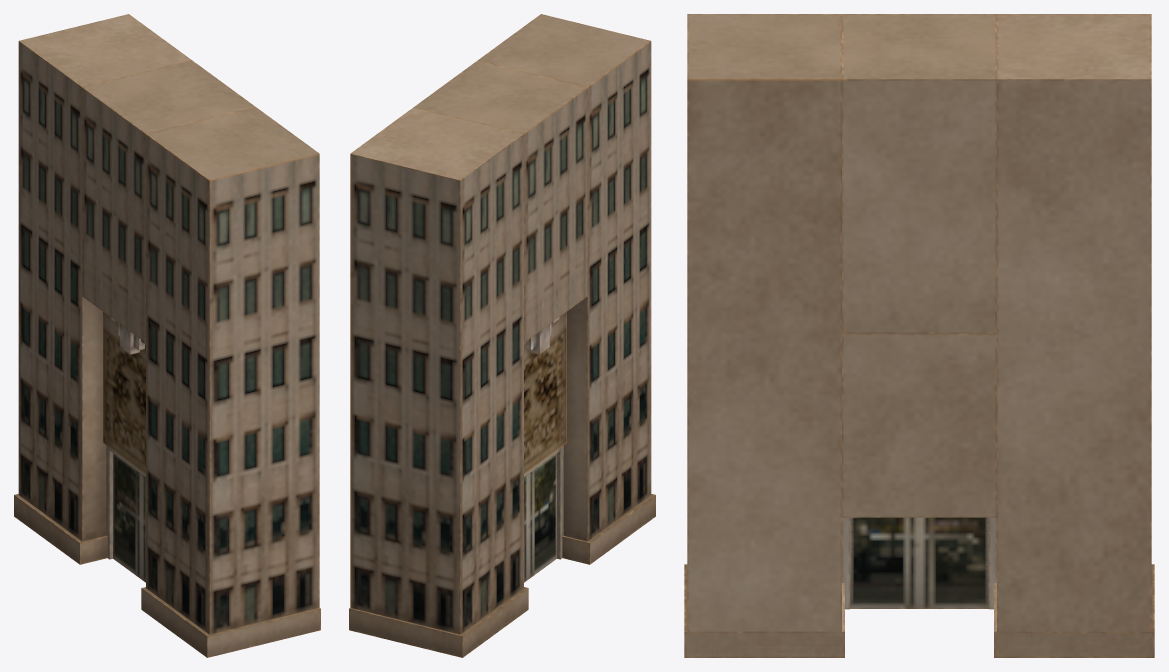
The model's file is Majakene.fbx.
The picture shows the model from 3 angles, left to right: view 1: azimuth 30°, elevation 25°; view 2: azimuth 150°, elevation 25°; view 3: azimuth 270°, elevation 25°; orthographic projection. The views are drawn at different scales.
Parts seen in each view (by area): view 1: cube_13, cube_1, cube_2, cube, cube_5, cube_3, cube_4, cube_6; view 2: cube_1, cube_13, cube_2, cube, cube_4, cube_3, cube_5, cube_7; view 3: cube_1, cube_13, cube_2, cube, cube_3, cube_5, cube_4.
Boxes of the visible parts, <box> form: cube_13: <box>146,107,319,634</box>; cube_1: <box>18,14,191,541</box>; cube_2: <box>82,60,255,342</box>; cube: <box>103,312,145,473</box>; cube_5: <box>141,587,320,657</box>; cube_3: <box>113,453,145,582</box>; cube_4: <box>14,494,107,564</box>; cube_6: <box>106,445,112,559</box>; cube_1: <box>350,107,523,634</box>; cube_13: <box>478,14,651,541</box>; cube_2: <box>414,60,587,342</box>; cube: <box>524,312,566,473</box>; cube_4: <box>349,587,528,657</box>; cube_3: <box>524,453,556,582</box>; cube_5: <box>562,494,655,564</box>; cube_7: <box>557,445,563,559</box>; cube_1: <box>997,14,1151,657</box>; cube_13: <box>687,14,841,657</box>; cube_2: <box>842,14,996,333</box>; cube: <box>842,333,996,517</box>; cube_3: <box>850,517,988,608</box>; cube_5: <box>684,564,844,657</box>; cube_4: <box>994,564,1154,657</box>.
Bounding box in the file's own units: 103 × 412 × 304.
1 material, 1 textured.
